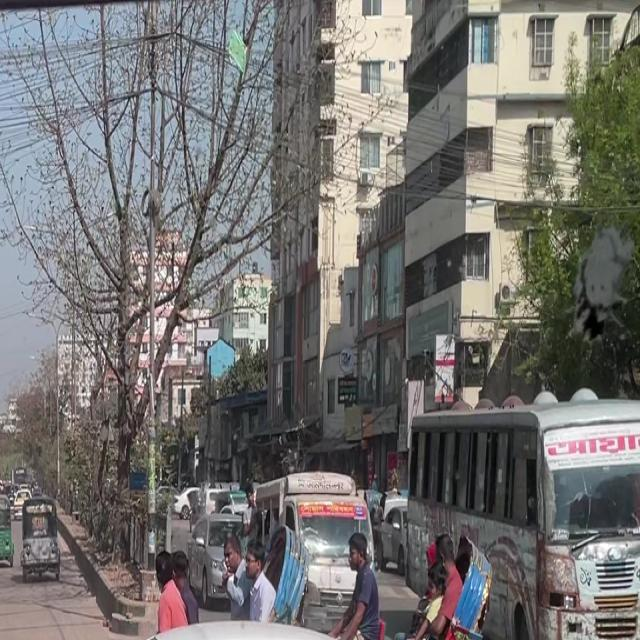bus: (402, 402, 640, 639)
car: (0, 626, 493, 640), (185, 511, 252, 606), (6, 468, 42, 514)
rickshaw: (12, 513, 66, 592), (0, 496, 17, 575)
van: (253, 470, 380, 640)
